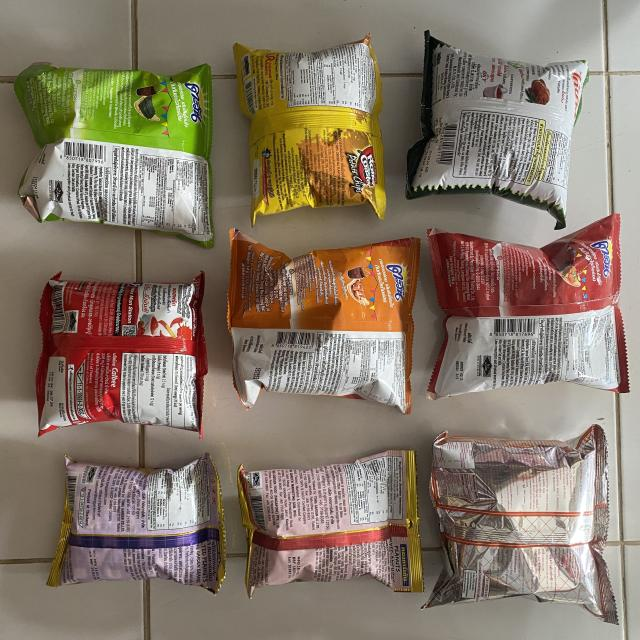plastik: (422, 425, 619, 624), (428, 214, 629, 399), (14, 62, 214, 246), (406, 31, 589, 229), (228, 229, 420, 414), (234, 35, 386, 225), (36, 272, 208, 438), (238, 450, 422, 595), (46, 454, 225, 592)
